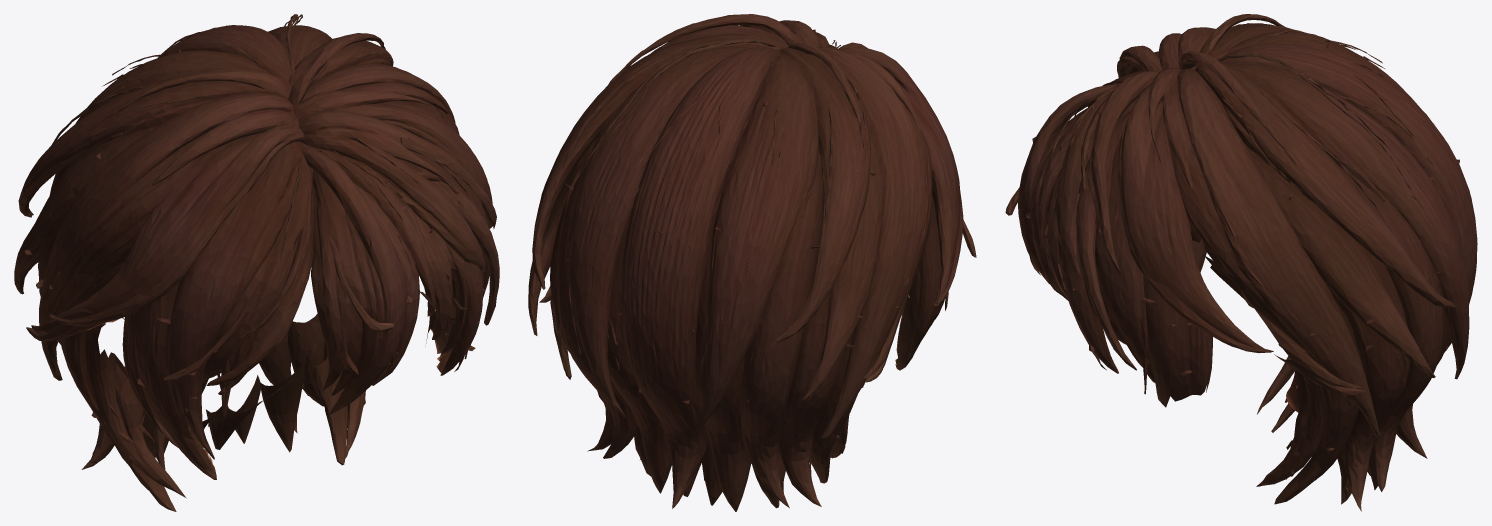
File: Miasto_Fryzura_HeadLocal_Wstepne_Dopasowanie.glb
3 views of the same model, side by side, from view 1: azimuth 30°, elevation 25°; view 2: azimuth 150°, elevation 25°; view 3: azimuth 270°, elevation 25° (orthographic). The views are drawn at different scales.
Parts seen in each view (by area): view 1: Miasto_Hair_HeadBoneLocal_ESTIMATE; view 2: Miasto_Hair_HeadBoneLocal_ESTIMATE; view 3: Miasto_Hair_HeadBoneLocal_ESTIMATE.
Part boxes in pixels (x1=…): Miasto_Hair_HeadBoneLocal_ESTIMATE: x1=14, y1=14, x2=499, y2=511; Miasto_Hair_HeadBoneLocal_ESTIMATE: x1=528, y1=14, x2=976, y2=511; Miasto_Hair_HeadBoneLocal_ESTIMATE: x1=1005, y1=14, x2=1477, y2=511.
Size of the model in its own units: 0.2543 by 0.2699 by 0.2661.
Materials: 1 (1 with a texture image).
